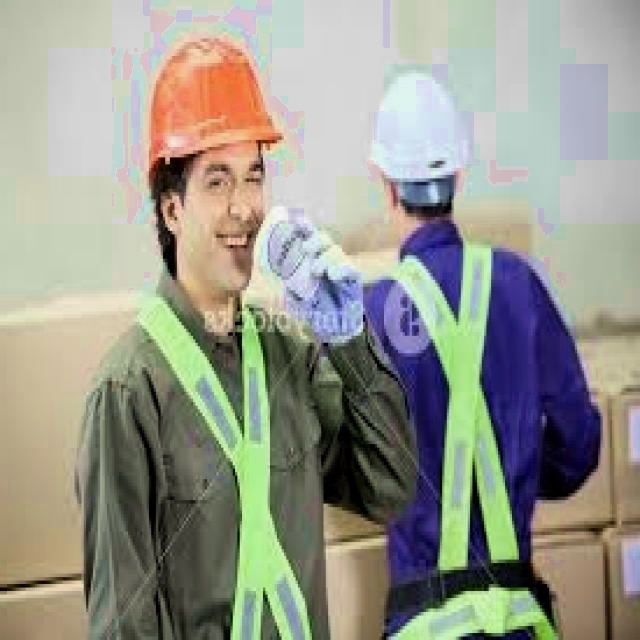Con_Chaleco: (379, 241, 557, 640)
